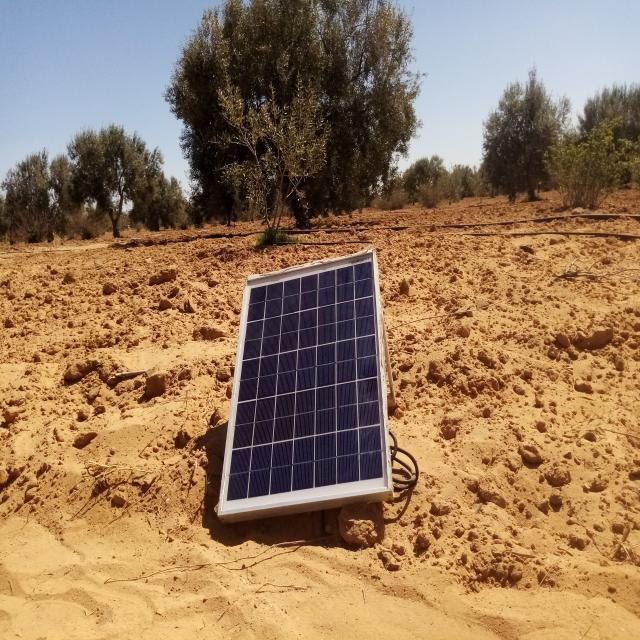no faulty: (219, 251, 390, 513)
